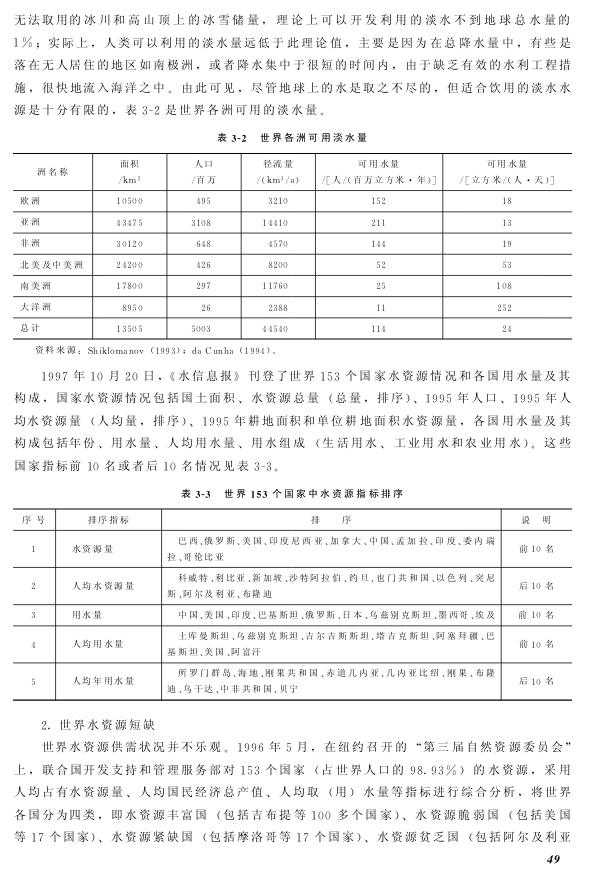table: (13, 508, 572, 701), (13, 153, 572, 340)
